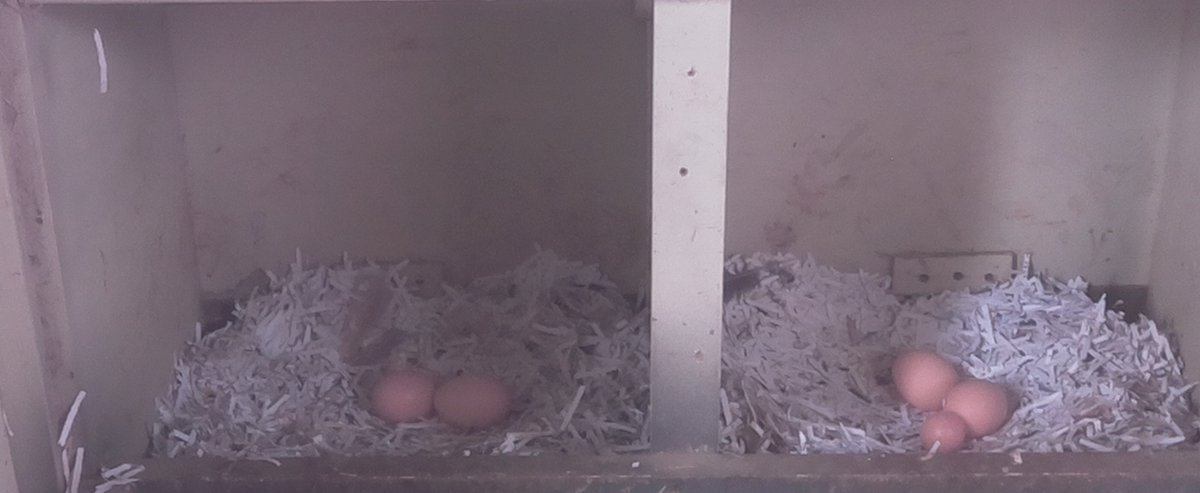egg: (432, 375, 518, 435), (888, 348, 962, 413), (938, 377, 1011, 436), (367, 368, 439, 427), (918, 410, 971, 457)
